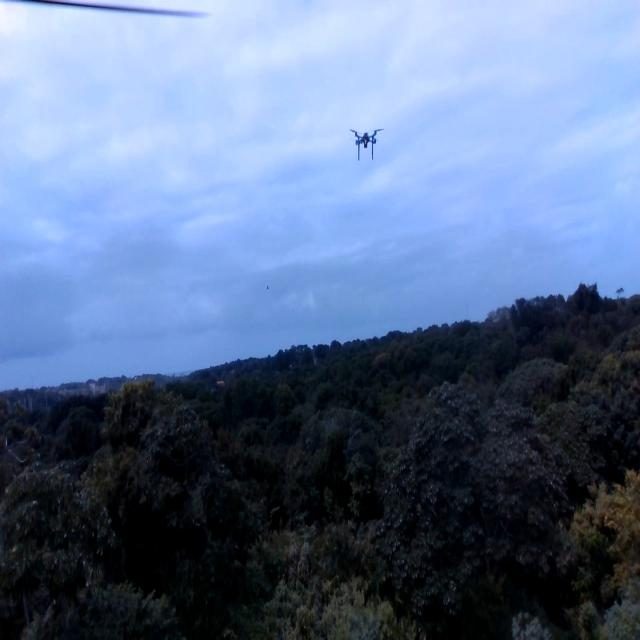-uav-: (348, 118, 394, 174)
